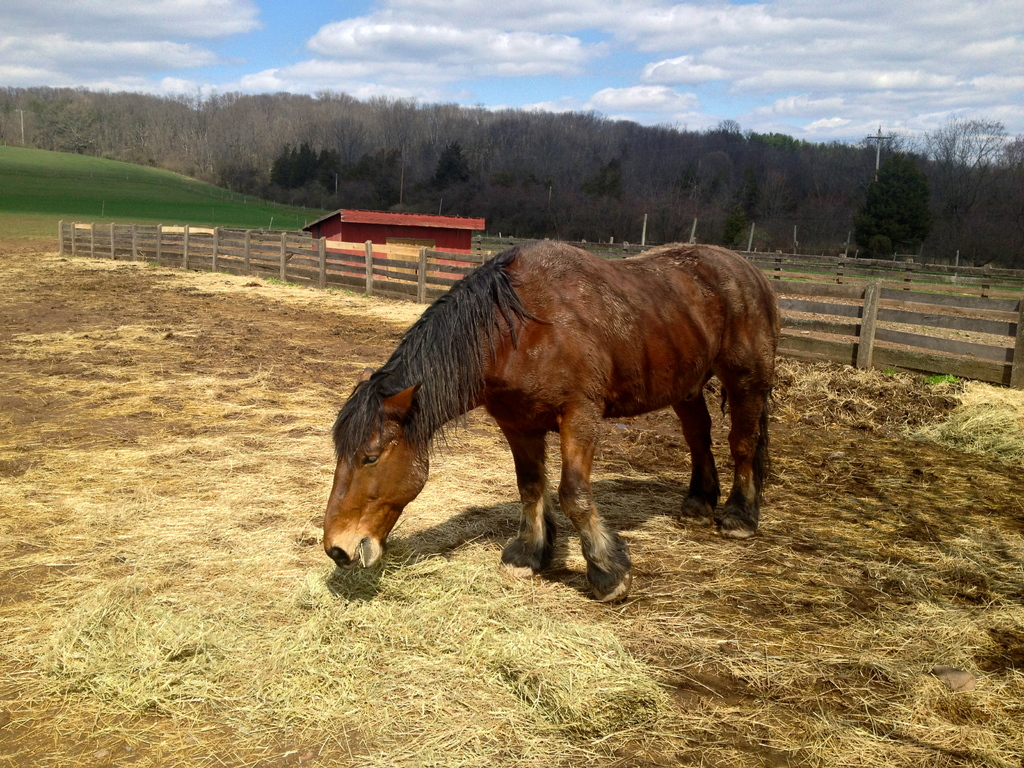horse: (320, 237, 776, 608)
